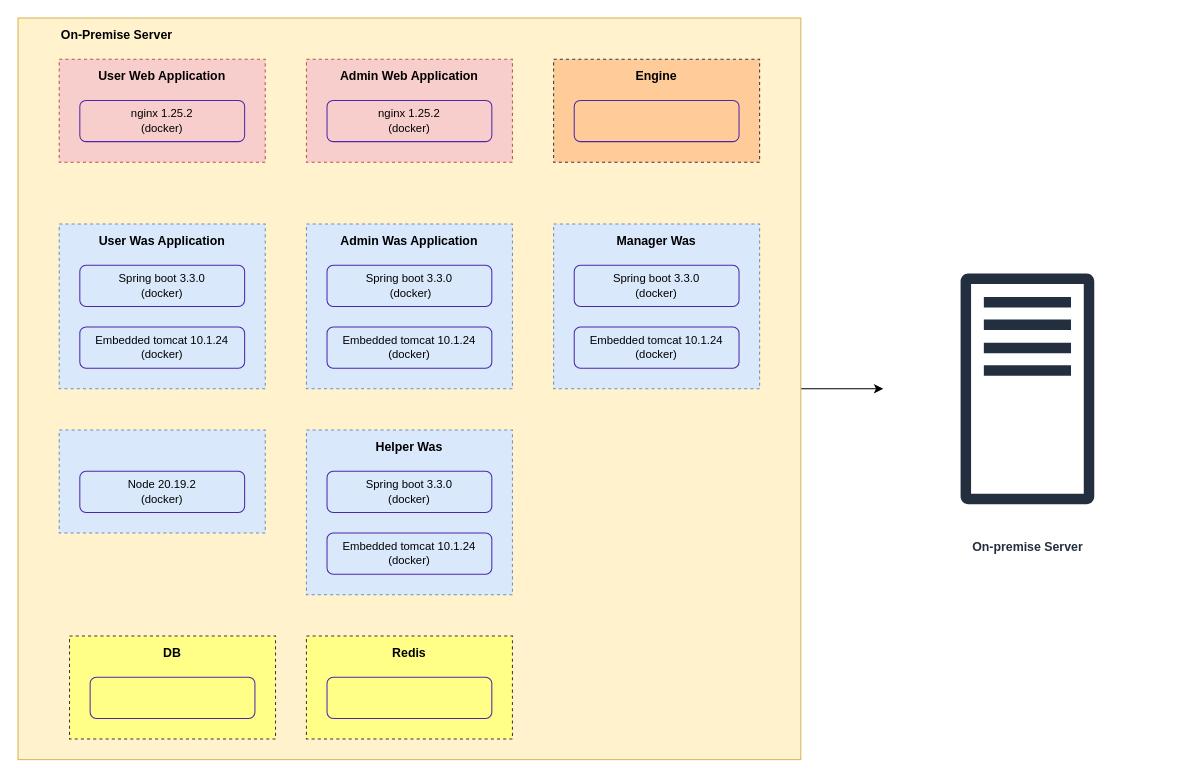
The diagram is 1190 pixels wide and 778 high, and some of its shapes have lost their labels. The shapes that lost their labels are listed below. From the top down, each one's box as (x1, y1, x2, y2) in pixels, then its label:
(573, 99, 739, 142): Python 3.10.14 (docker)
(58, 429, 265, 533): Report Was
(89, 676, 255, 718): Mariadb 11.4.2 (docker)
(326, 676, 492, 718): Redis 7.2.5 (docker)
